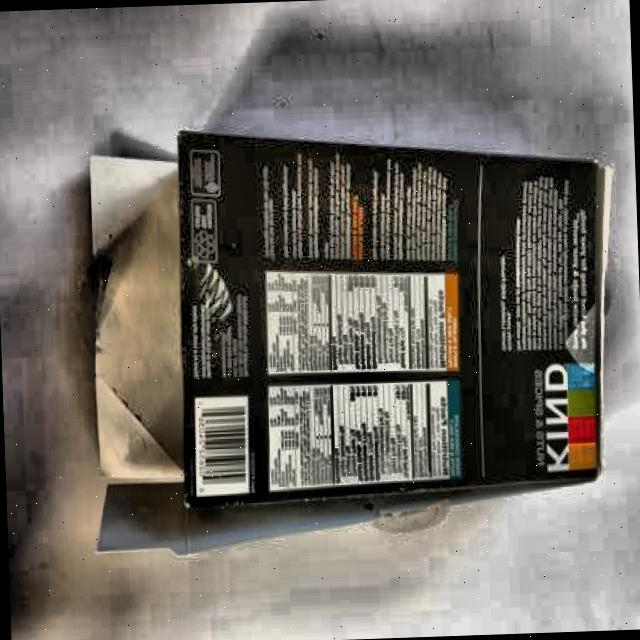paper: (70, 117, 630, 558)
